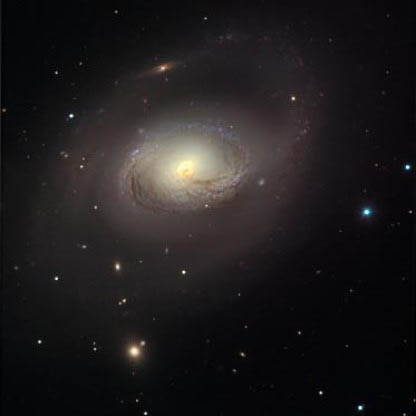Messier 96: (31, 33, 337, 369)
